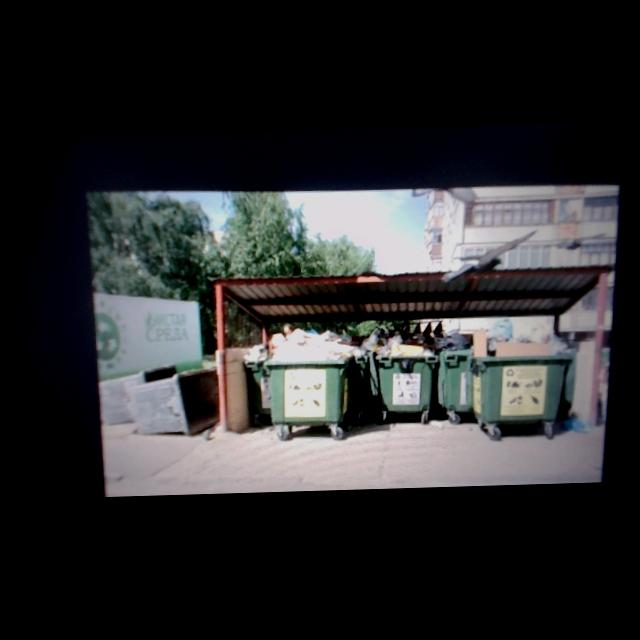Trash_Can_Full: (470, 319, 571, 427), (270, 329, 353, 427), (375, 335, 437, 416), (435, 333, 472, 415), (242, 345, 271, 417), (348, 331, 368, 412)
